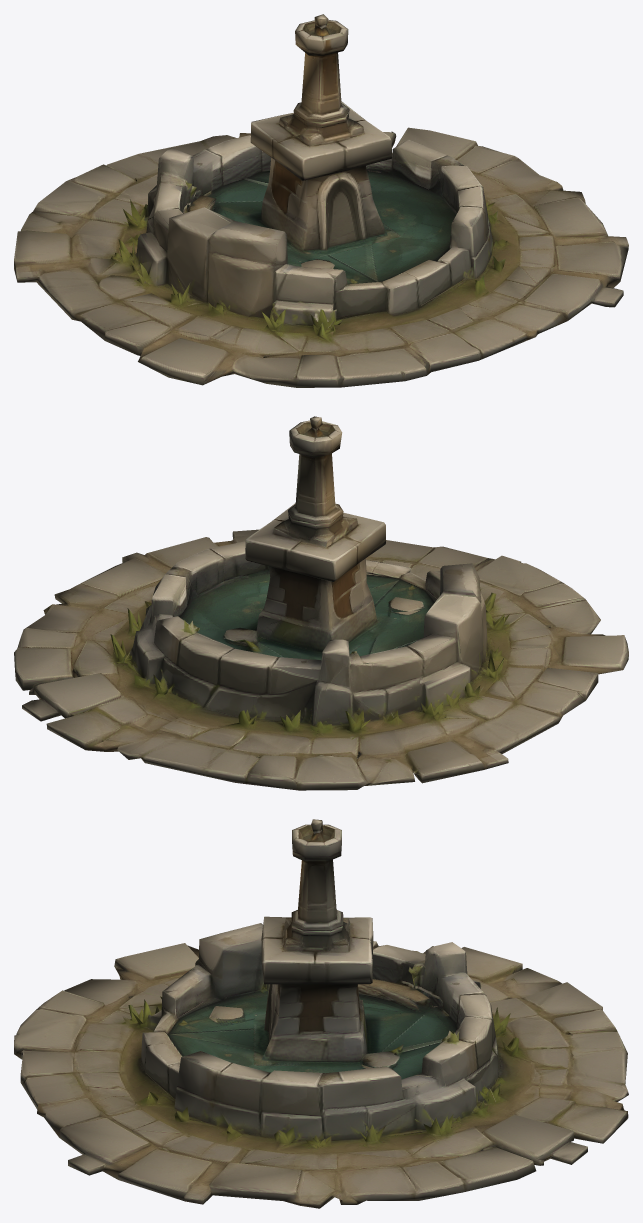
Rendered from WaterFountain.fbx.
3 views of the same model, one above another, from view 1: azimuth 30°, elevation 25°; view 2: azimuth 150°, elevation 25°; view 3: azimuth 270°, elevation 25° (orthographic). The views are drawn at different scales.
Parts seen in each view (by area): view 1: Mesh_0; view 2: Mesh_0; view 3: Mesh_0.
Part boxes in pixels (x1,y1,x2,y2): Mesh_0: (14,14,628,387); Mesh_0: (14,416,628,790); Mesh_0: (14,819,628,1208).
Bounding box in the file's own units: 190 × 87.79 × 191.
1 material, 1 textured.
